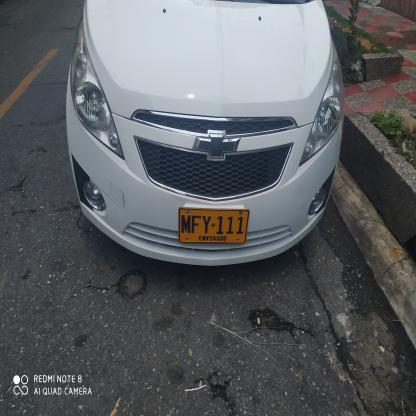placa: (175, 204, 250, 249)
